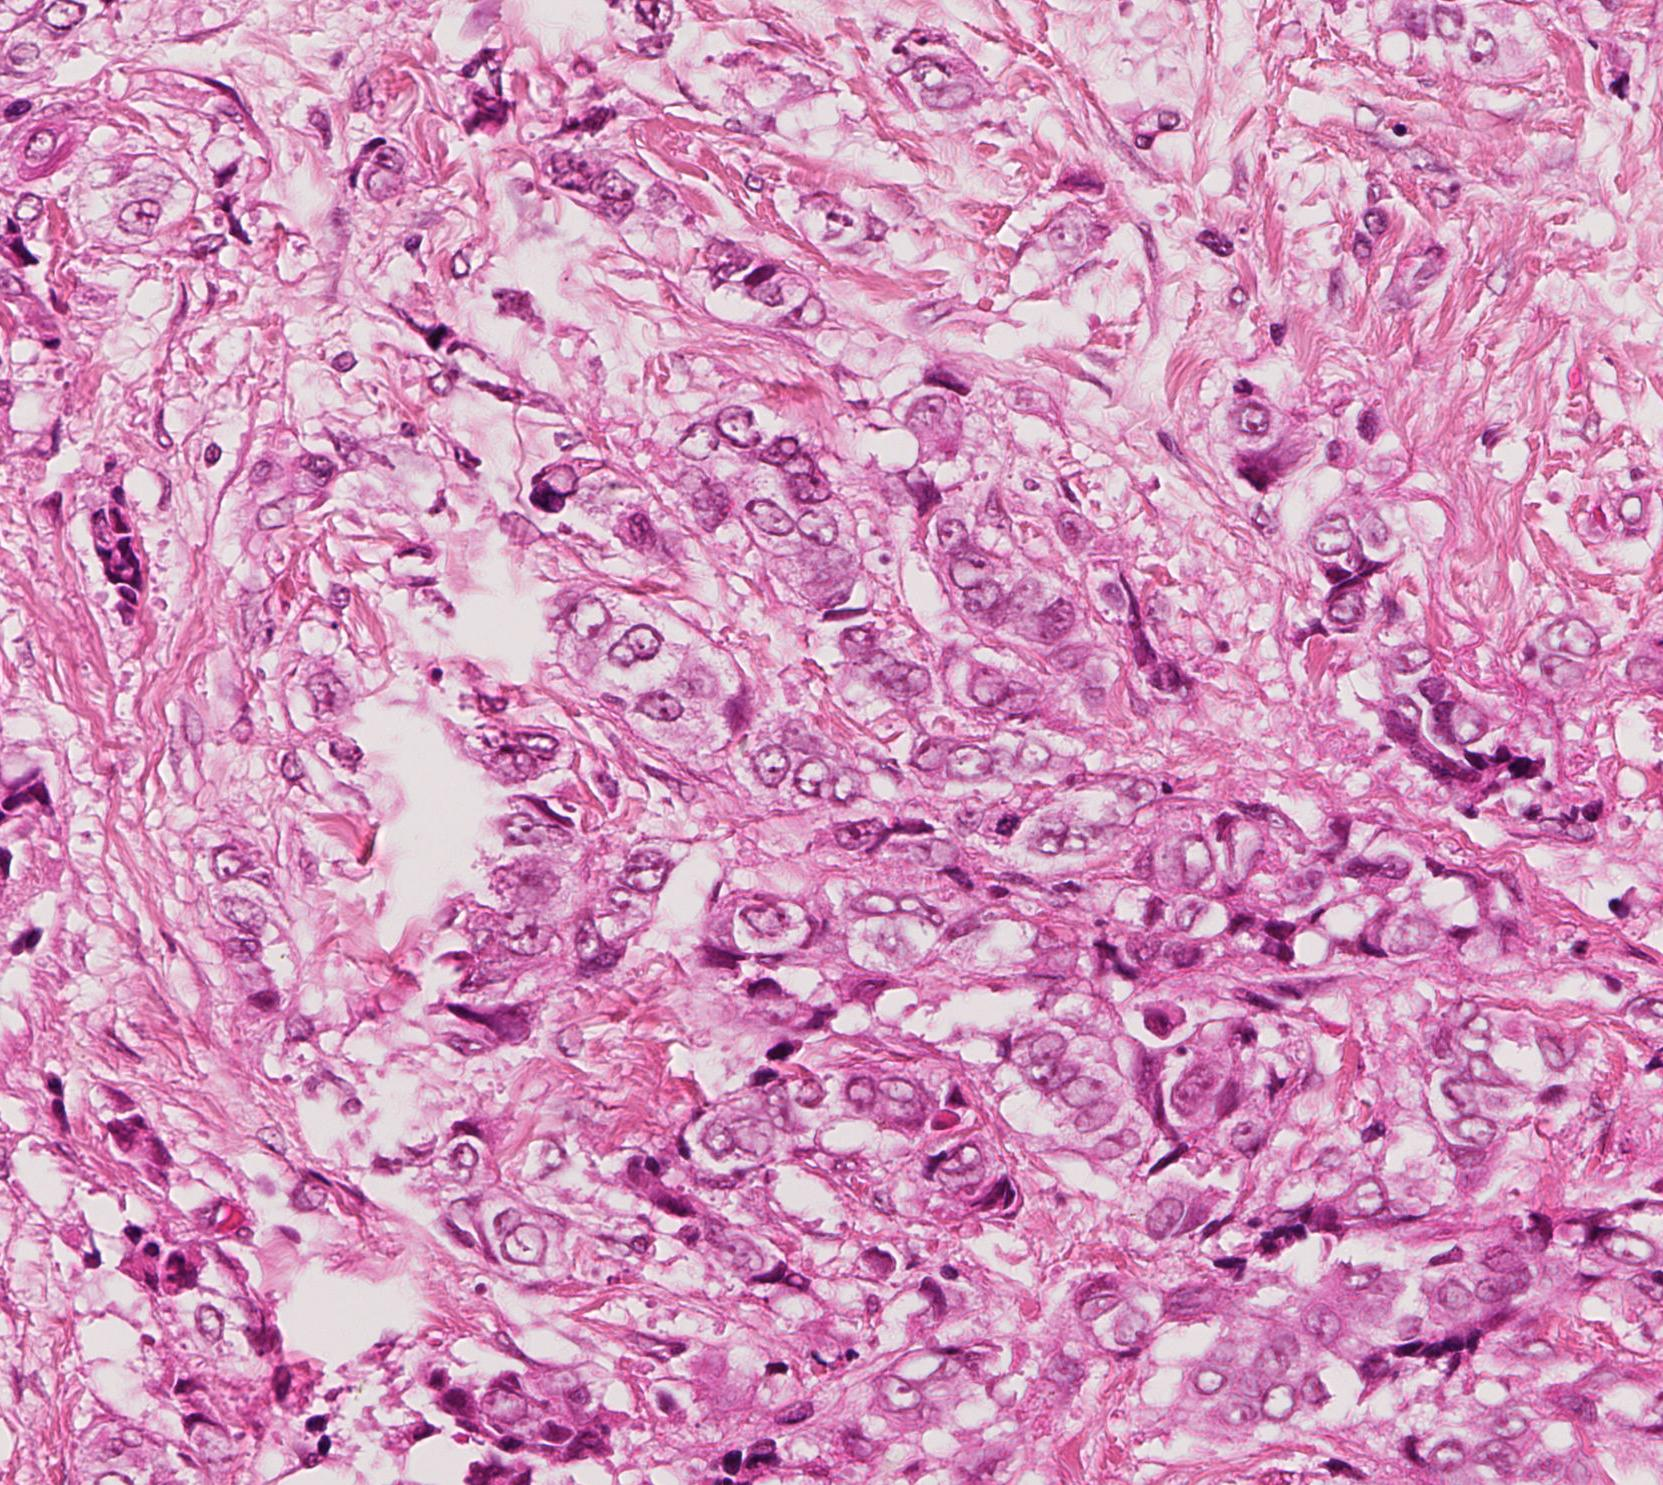mitosis: (978, 794, 1038, 854)
